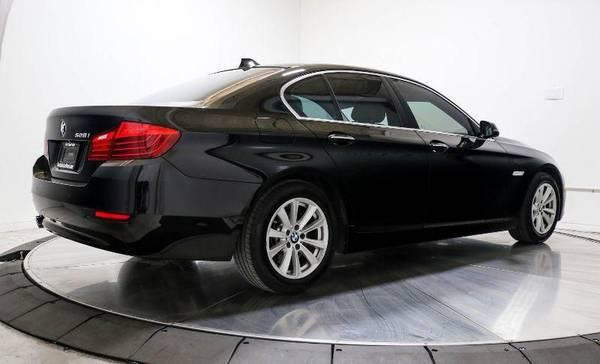Front_Fender: (496, 139, 558, 221)
Front_Right_Door: (412, 127, 511, 236)
Front_Right_Window: (380, 75, 491, 139)
Rear_Bumper: (33, 154, 265, 258)
Rear_Fender: (145, 107, 317, 182)
Rear_Right_Door: (294, 116, 429, 248)
Rear_Right_Window: (279, 69, 409, 128)
Rear_Windshield: (132, 66, 288, 105)
Right_Taillight: (87, 120, 183, 159)
Roof: (198, 59, 436, 117)
Tailgate: (44, 105, 200, 181)
Wheel: (243, 175, 344, 293), (525, 177, 563, 242)
